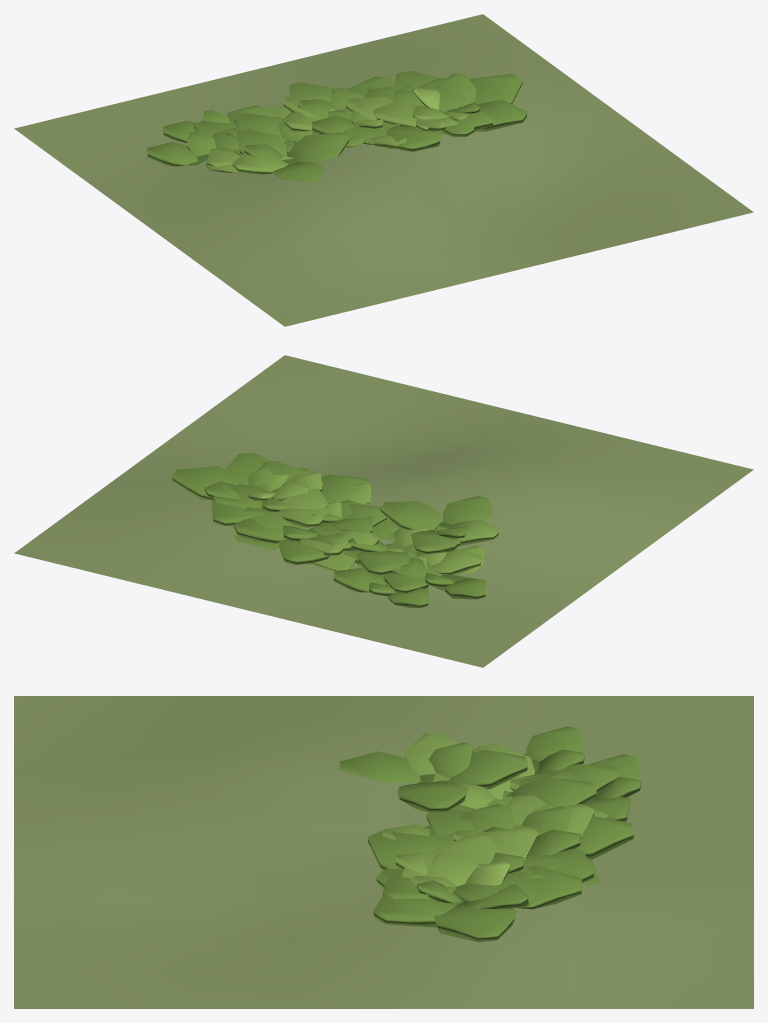
Rendered from master_grass_lush_07.glb.
The picture shows the model from 3 angles, top to bottom: view 1: azimuth 30°, elevation 25°; view 2: azimuth 150°, elevation 25°; view 3: azimuth 270°, elevation 25°; orthographic projection. The views are drawn at different scales.
Parts seen in each view (by area): view 1: master_grass_lush_07; view 2: master_grass_lush_07; view 3: master_grass_lush_07.
Boxes of the visible parts, <box> form: master_grass_lush_07: <box>14,14,753,326</box>; master_grass_lush_07: <box>14,355,753,667</box>; master_grass_lush_07: <box>14,696,753,1008</box>.
Bounding box in the file's own units: 1.35 × 0.1073 × 1.35.
